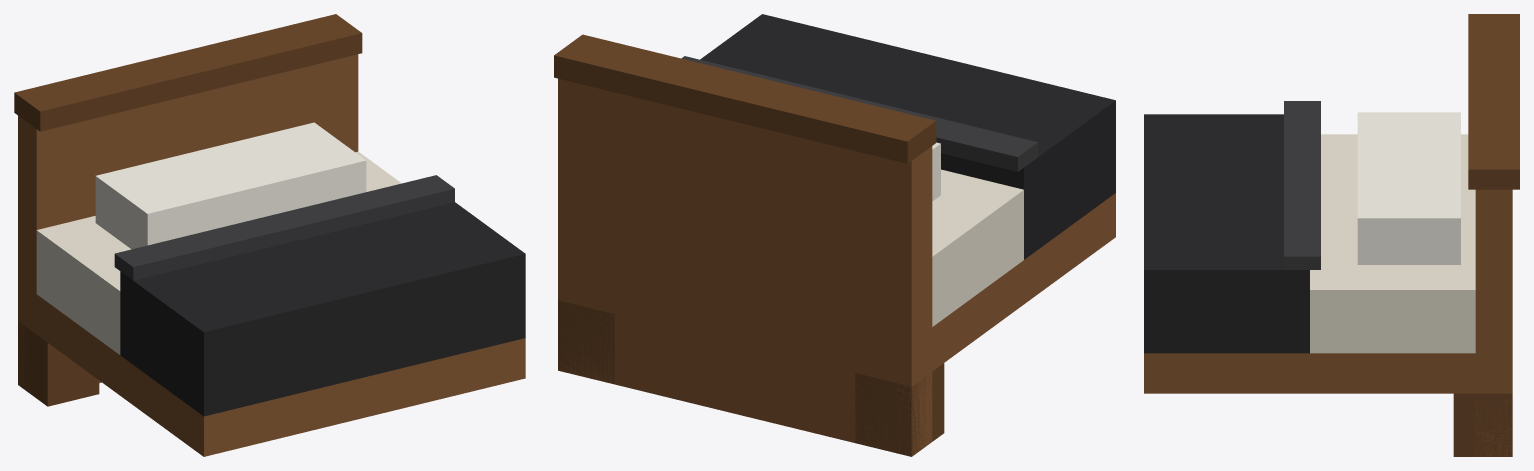
File: bed_black_head.glb
3 views of the same model, side by side, from view 1: azimuth 30°, elevation 25°; view 2: azimuth 150°, elevation 25°; view 3: azimuth 270°, elevation 25° (orthographic). The views are drawn at different scales.
Visible parts, largest first — view 1: body; view 2: body; view 3: body.
Boxes of the visible parts, x1=… form: body: x1=14, y1=14, x2=525, y2=456; body: x1=554, y1=14, x2=1115, y2=456; body: x1=1144, y1=14, x2=1519, y2=456.
Size of the model in its own units: 1 by 0.86 by 1.02.
